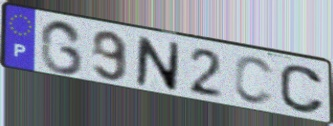2: (187, 47, 225, 101)
9: (90, 30, 130, 84)
C: (277, 64, 327, 117), (232, 55, 276, 108)
G: (38, 19, 85, 77)
N: (134, 34, 182, 95)
